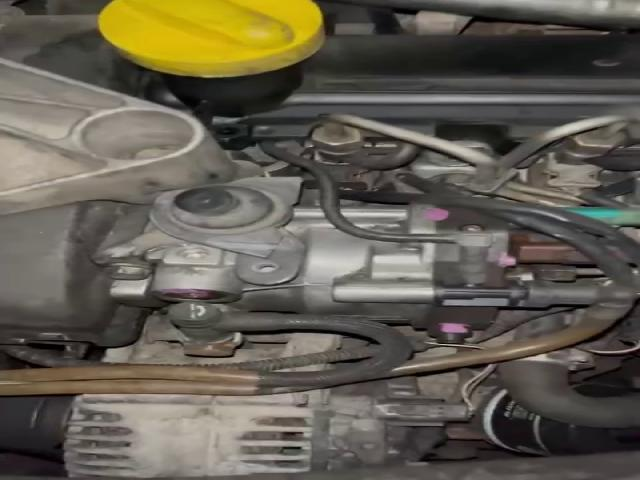alternator: (59, 378, 471, 478)
high_pressure_pump: (147, 200, 530, 344)
